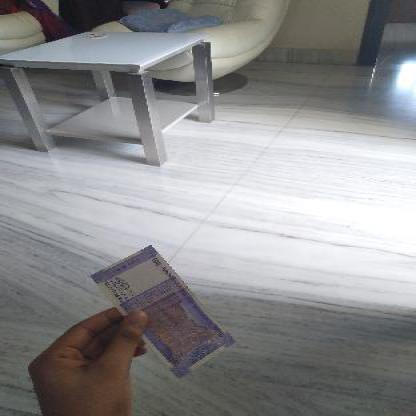New100Back: (88, 244, 229, 376)
